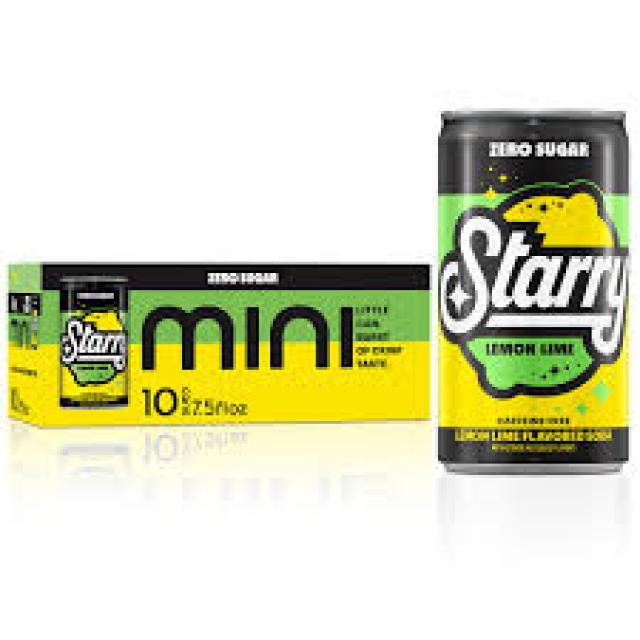Cans: (424, 97, 640, 478)
